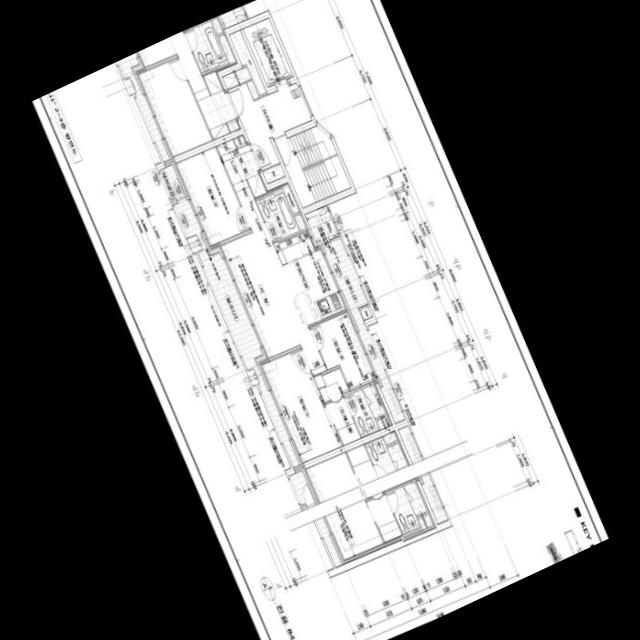background: (32, 0, 608, 640)
space_balconi: (174, 200, 298, 467), (304, 206, 404, 423)
space_bedroom: (259, 349, 341, 463), (174, 147, 249, 249), (309, 312, 376, 391)
space_dressroom: (319, 368, 360, 445)
space_elevator: (242, 18, 293, 87)
space_elevator_hall: (227, 83, 311, 170)
space_front: (216, 140, 267, 198)
space_kitchen: (279, 231, 346, 326)
space_living_room: (219, 187, 326, 375)
space_other: (228, 30, 265, 95), (221, 67, 258, 100), (159, 165, 184, 199), (281, 183, 299, 214), (261, 164, 284, 183), (294, 213, 306, 230), (376, 417, 390, 429), (360, 307, 372, 320), (233, 135, 245, 146)
space_staircase: (274, 126, 350, 207)
space_toilet: (344, 384, 385, 437), (256, 193, 299, 242)
